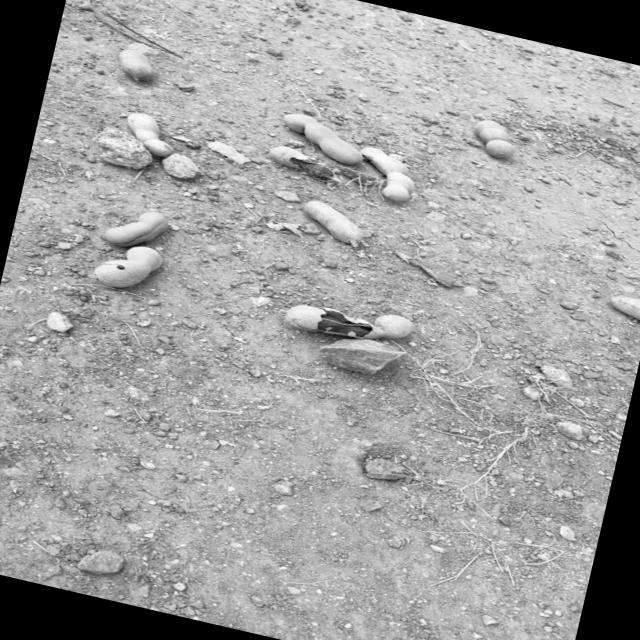tamarind: (80, 235, 176, 302), (270, 110, 371, 166), (288, 195, 374, 251), (93, 200, 175, 252), (349, 142, 424, 198), (118, 108, 179, 156), (462, 114, 519, 161), (116, 38, 162, 81)
